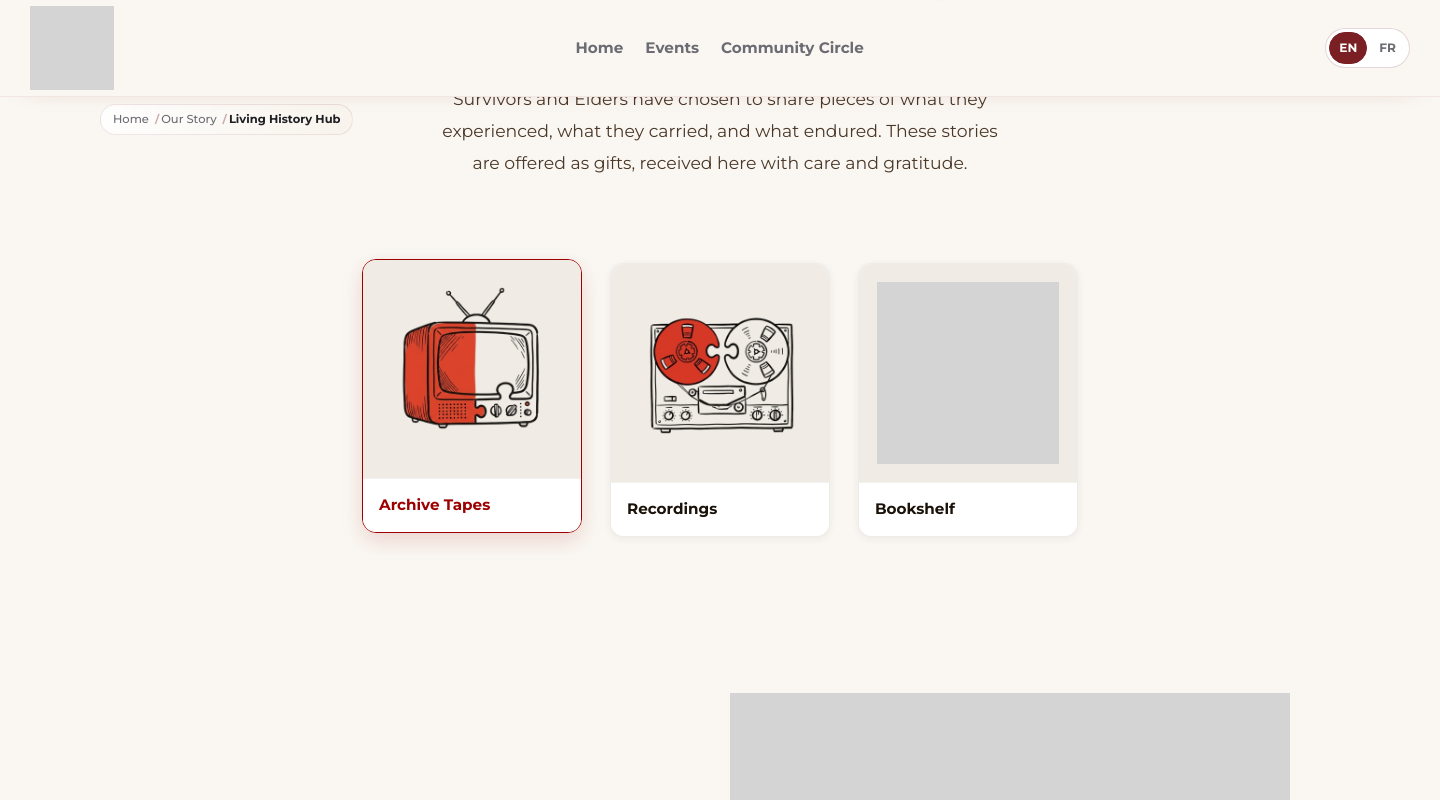
Test: Living History bookshelf › opens an uploaded book in the flipbook page with breadcrumbs
(page scrolled)
Click the button "Bookshelf" at (968, 401), box [858,263,1078,538]
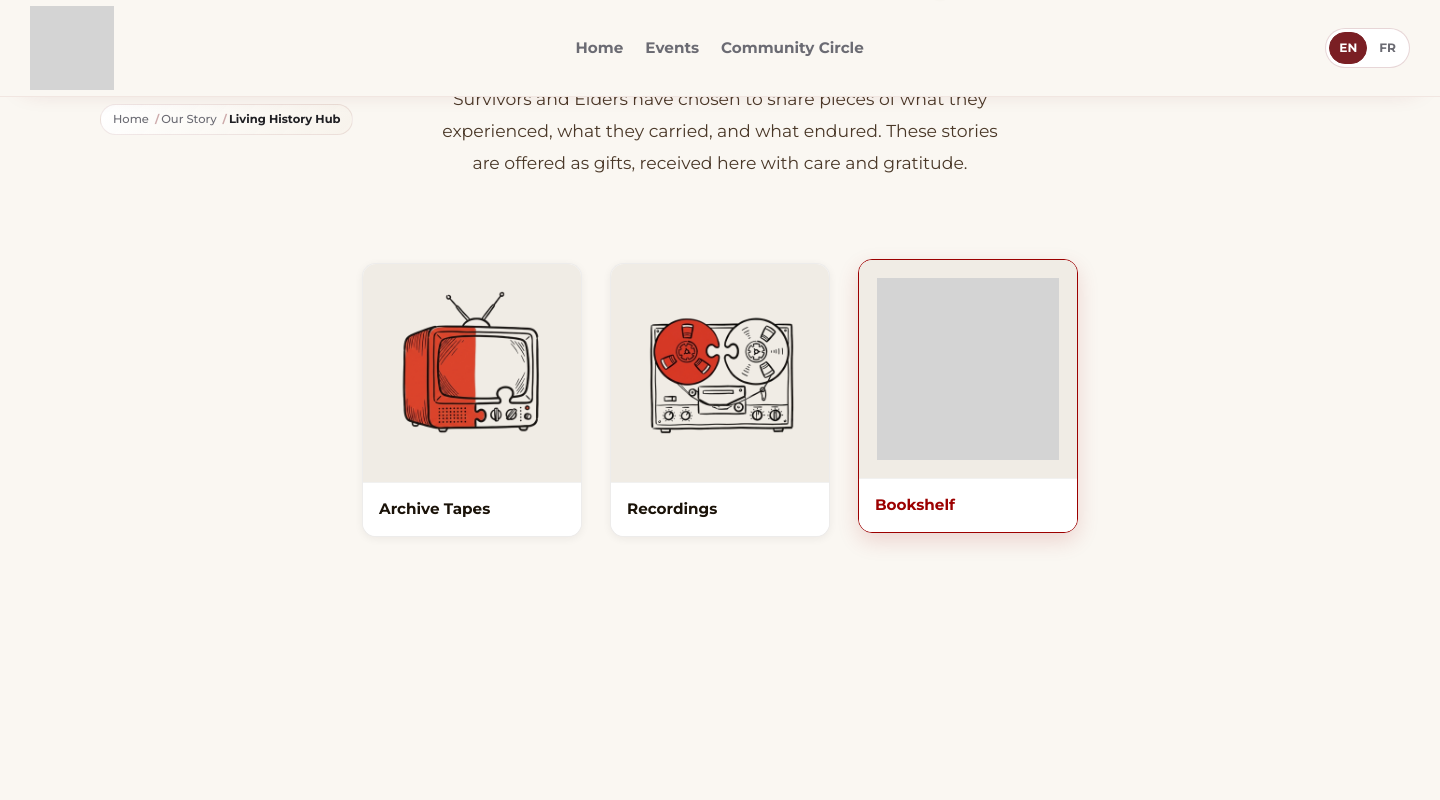
Scroll
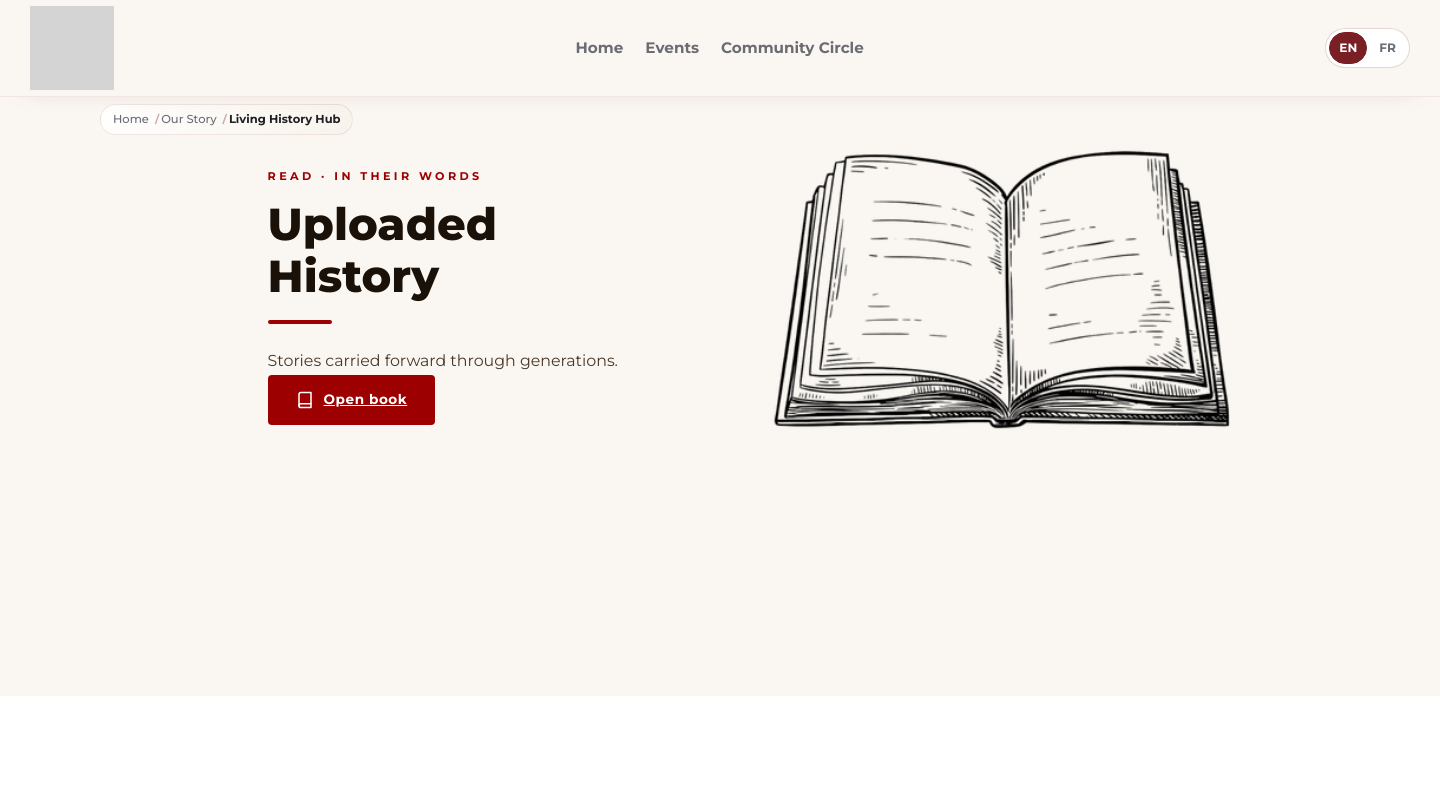
Click the link "Open book" at (352, 400), box [268,375,436,424]
(page scrolled)
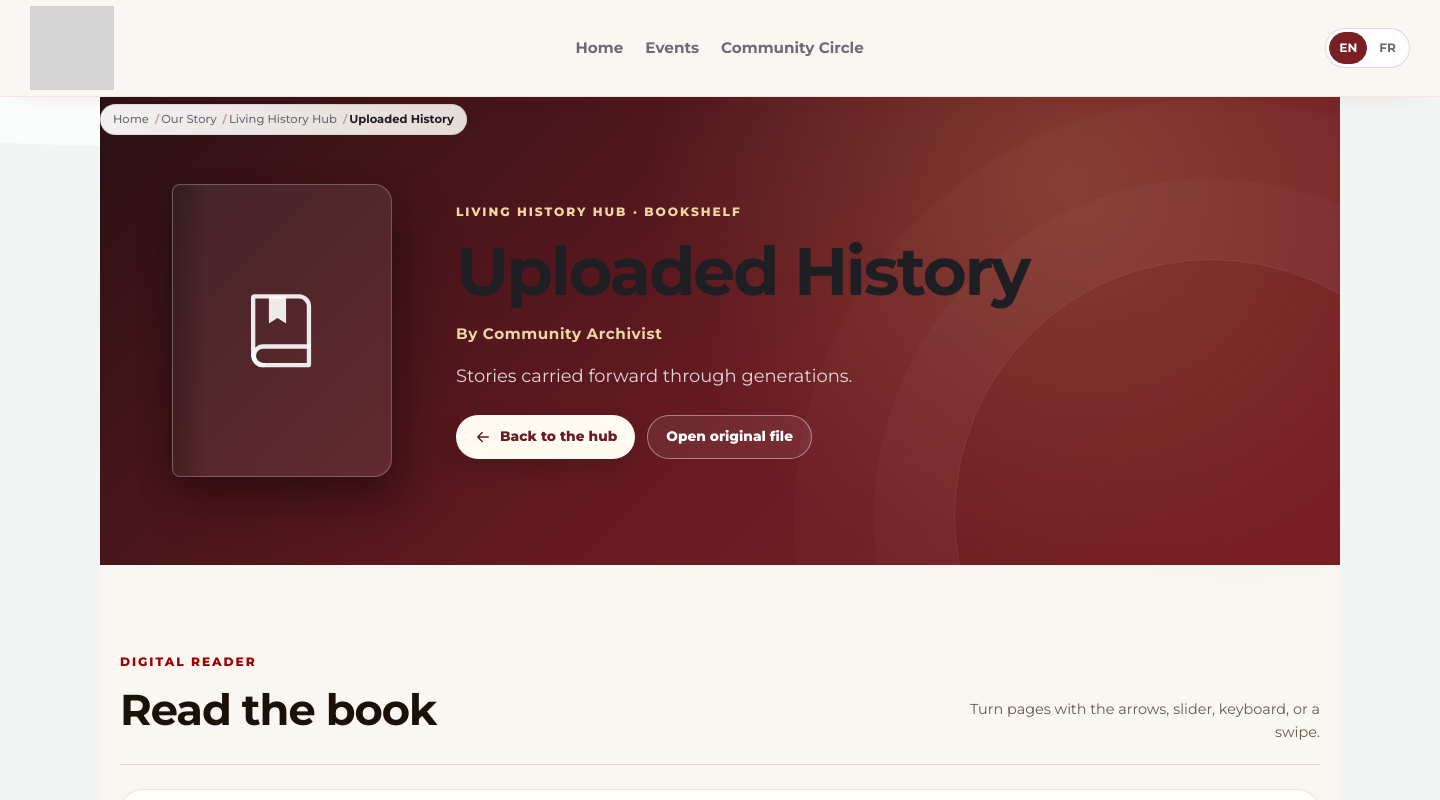
Check: the heading "Uploaded History" is shown, box [456,230,1029,312]
Check: the text "Uploaded History" is shown, box [349,111,454,127]
Check: the heading "Read the book" is shown, box [120,677,436,744]
